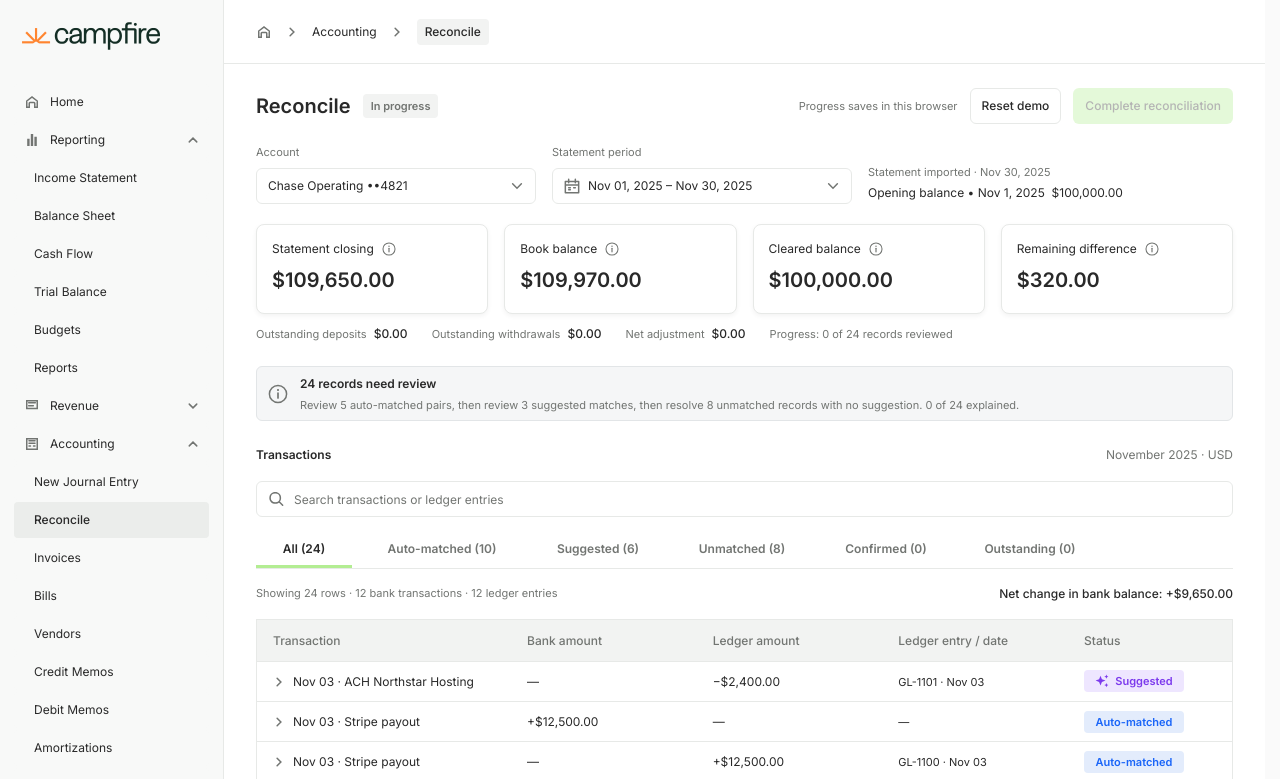
Scenario: Reconciliation prototype › starts with 24 records in 24 rows, the auto-matched pairs in the main table
Expected: the heading "Transactions" is shown, [256,445,331,465]
Expected: the tab "All (24)" is shown, [256,533,352,569]
Click the tab "Auto-matched (10)": click(442, 551) [364,533,520,569]
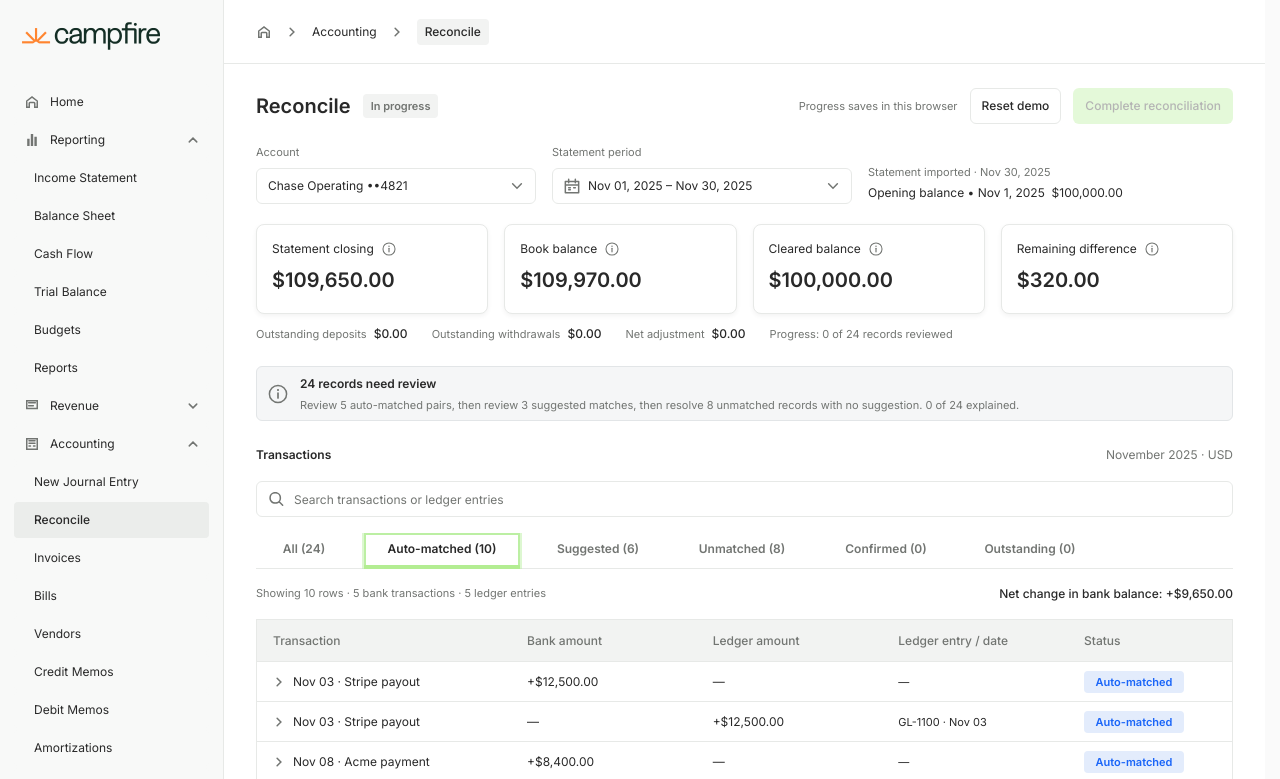
Expected: the 1st text "Auto-matched" is shown, [1084,670,1184,692]
Result: the text "Showing 10 rows · 5 bank transactions · 5 ledger entries" is shown at [256,585,546,601]
